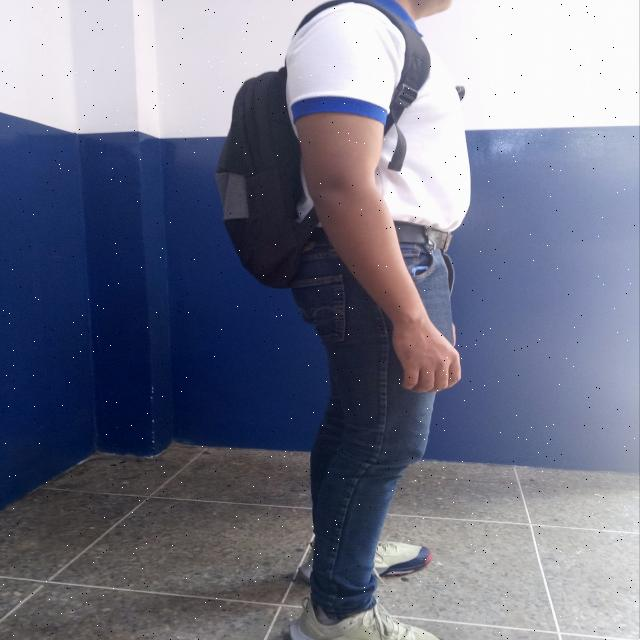pantalon_oscuro: (292, 241, 455, 617)
uniforme_superior: (284, 0, 472, 232)
